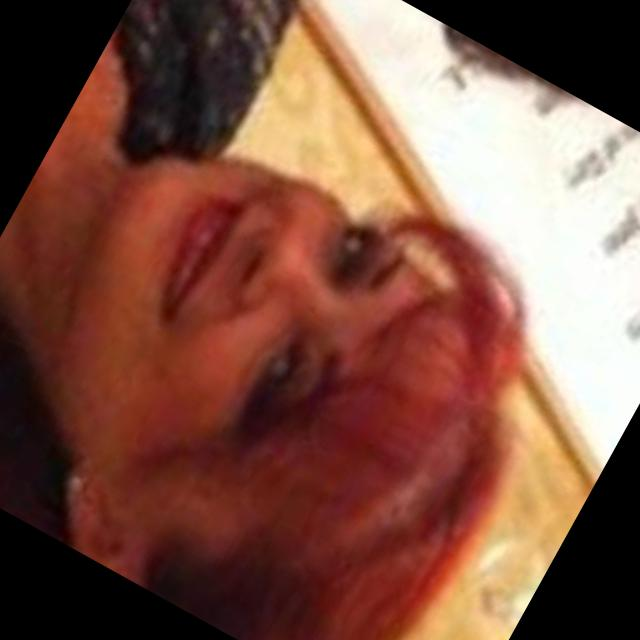bareface: (13, 83, 537, 597)
